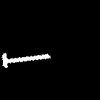half_double_crochet: (2, 53, 49, 67)
